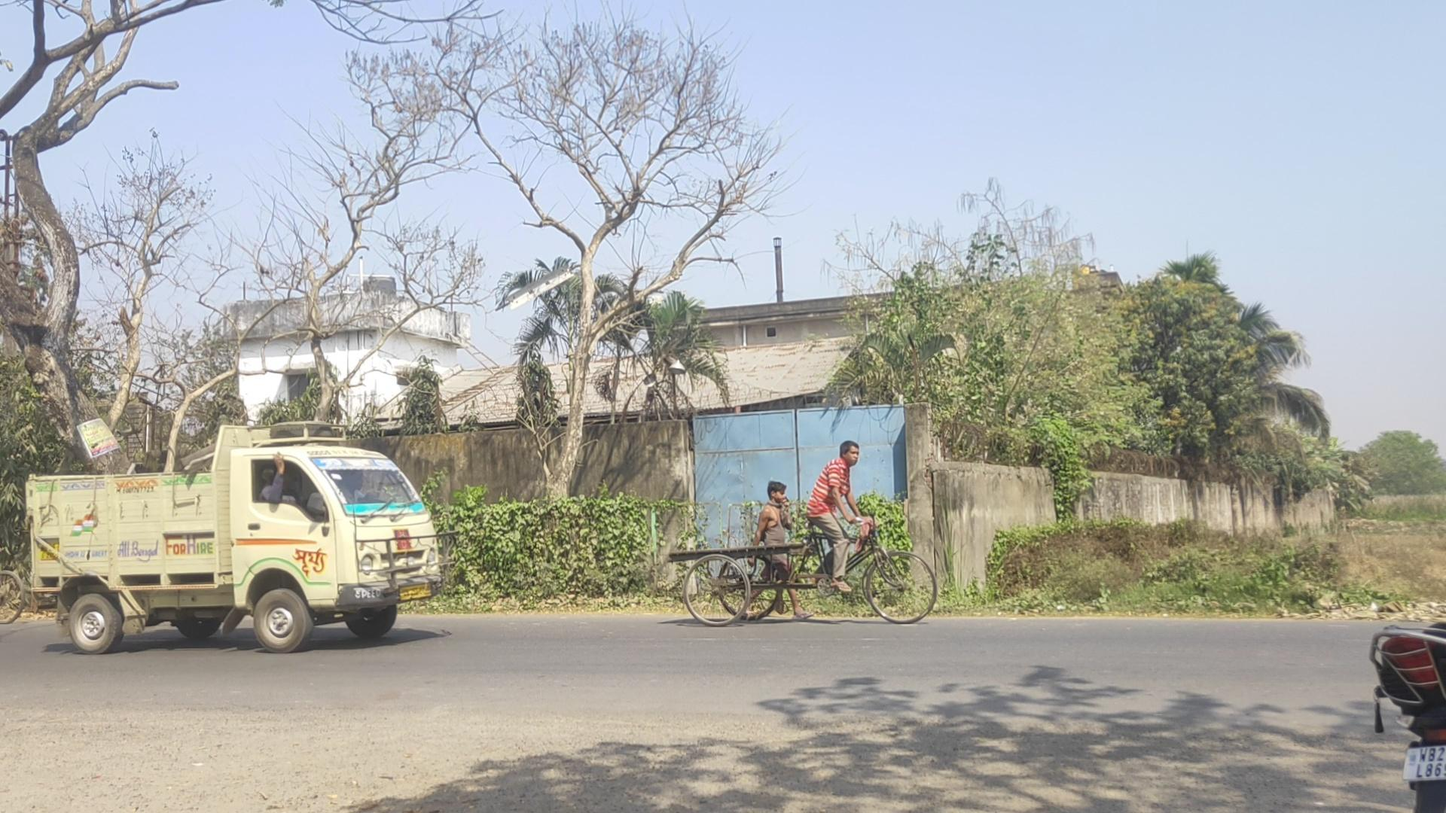van: (23, 420, 460, 654)
